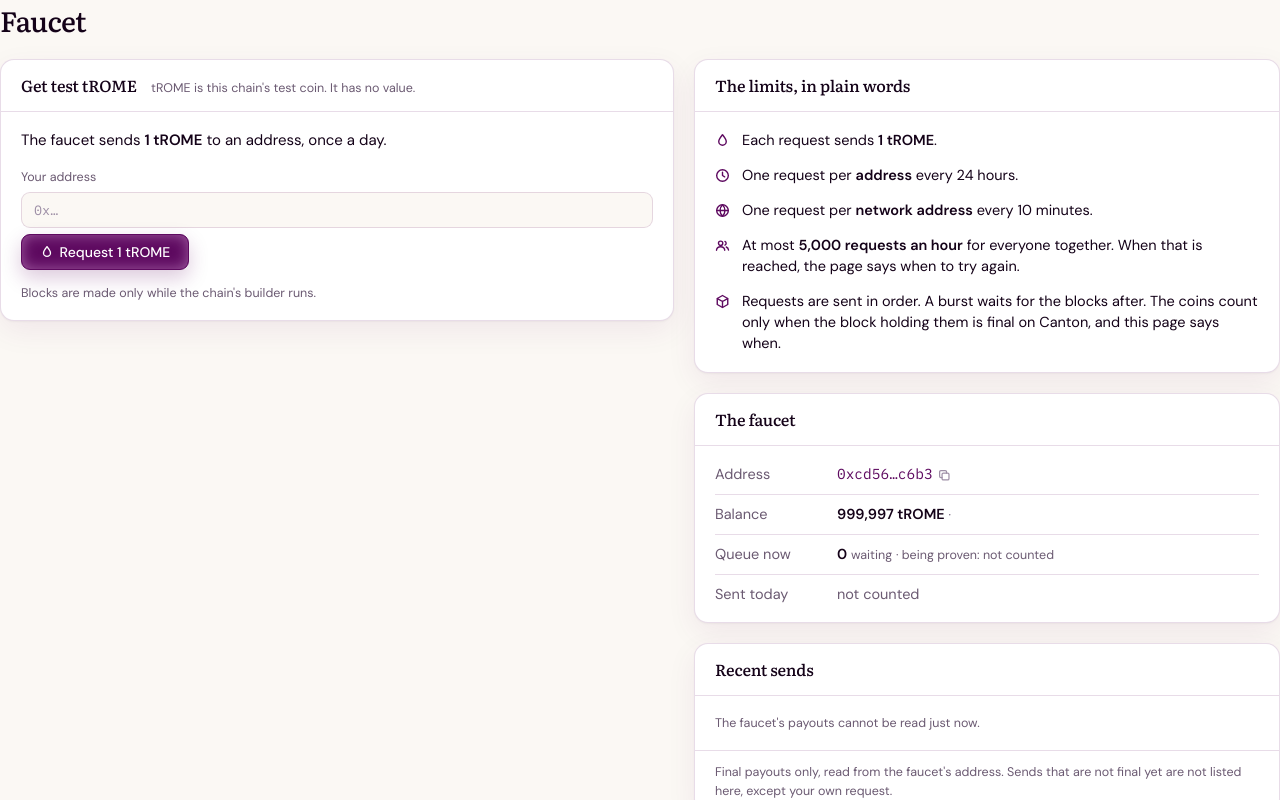
Test: a request that is taken › says so, and never failed or final, when the explorer stopped following a transfer that the chain may still take
The width and height of the screenshot is (1280, 800).
In the field labelled "Your address": (337, 210) [21, 192, 653, 228], type "0x5a04de5c5ebd085f5e3b3ec791ab5cdc8e2b56f0"
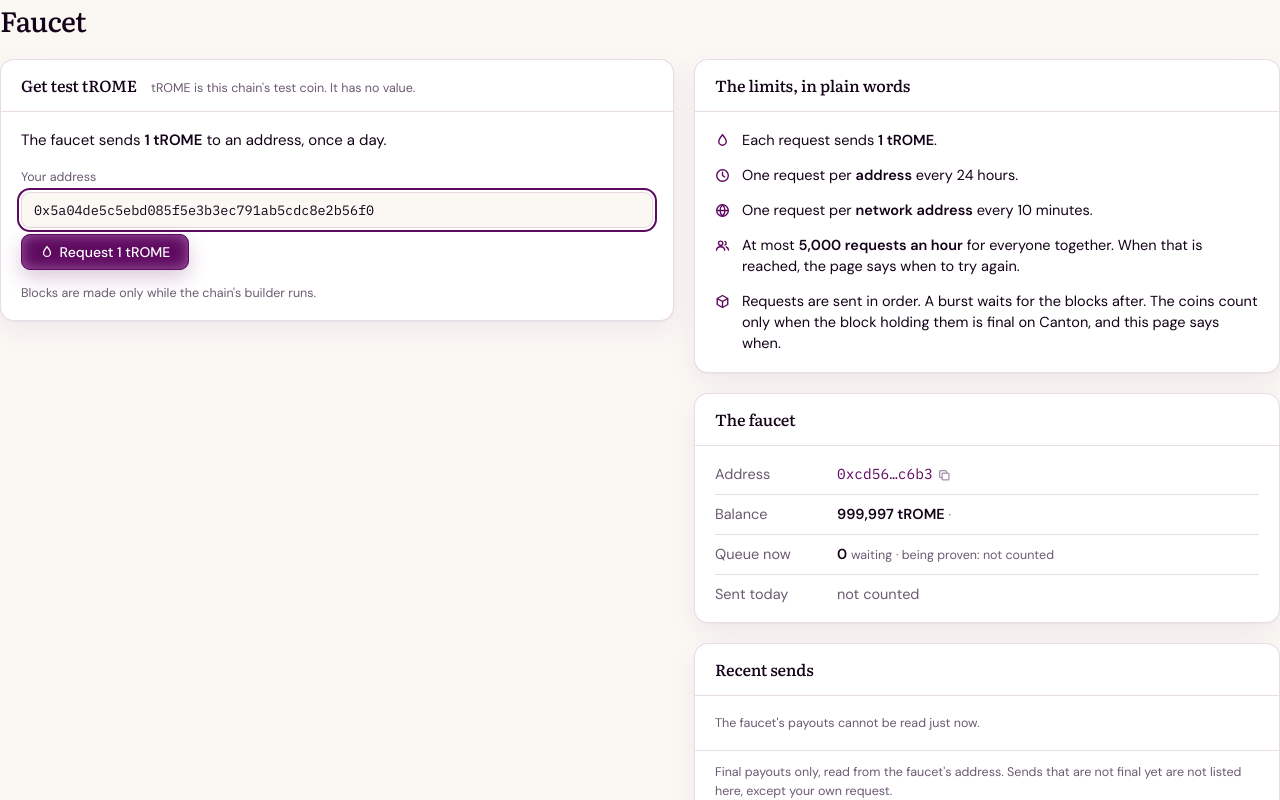
Click the button "Request 1 tROME": (105, 252) [21, 234, 189, 270]
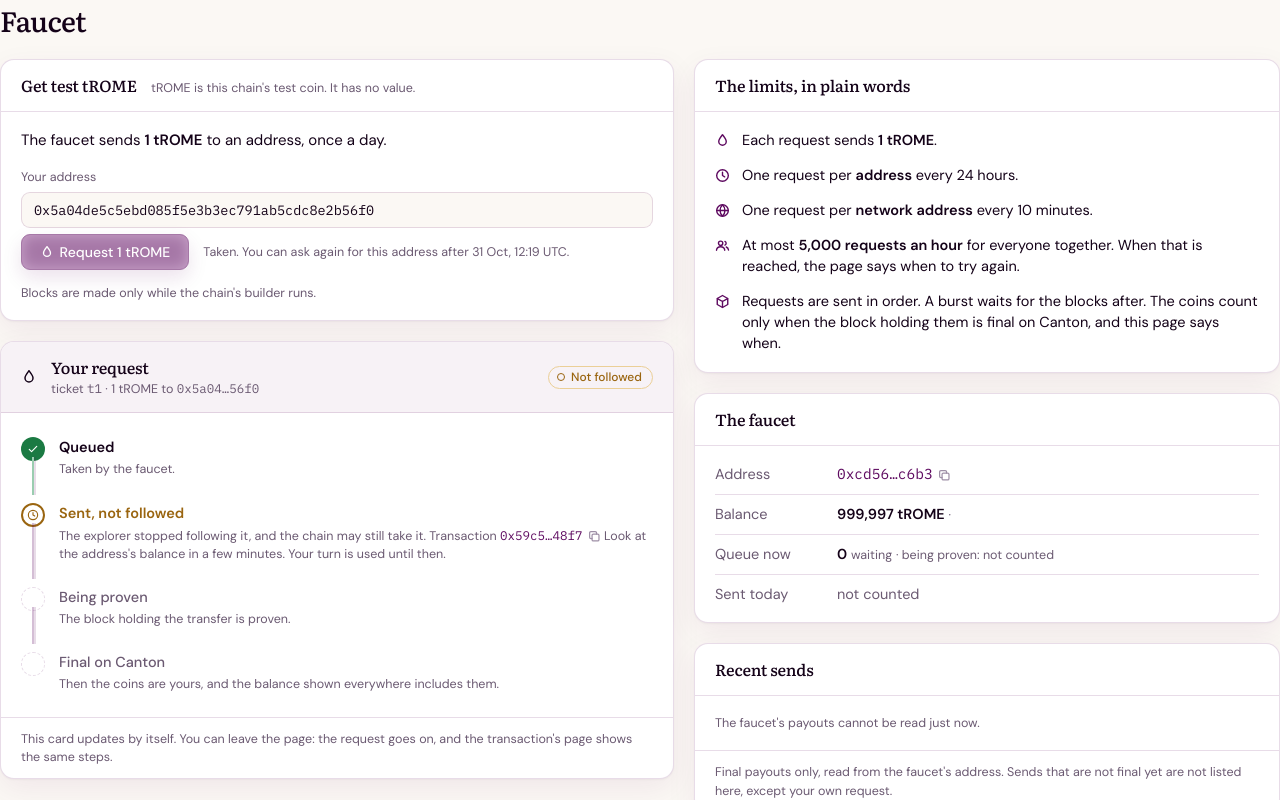
Check: the text "Sent, not followed" shows "The explorer stopped following it, and the chain may still take it.", box [59, 528, 426, 544]
